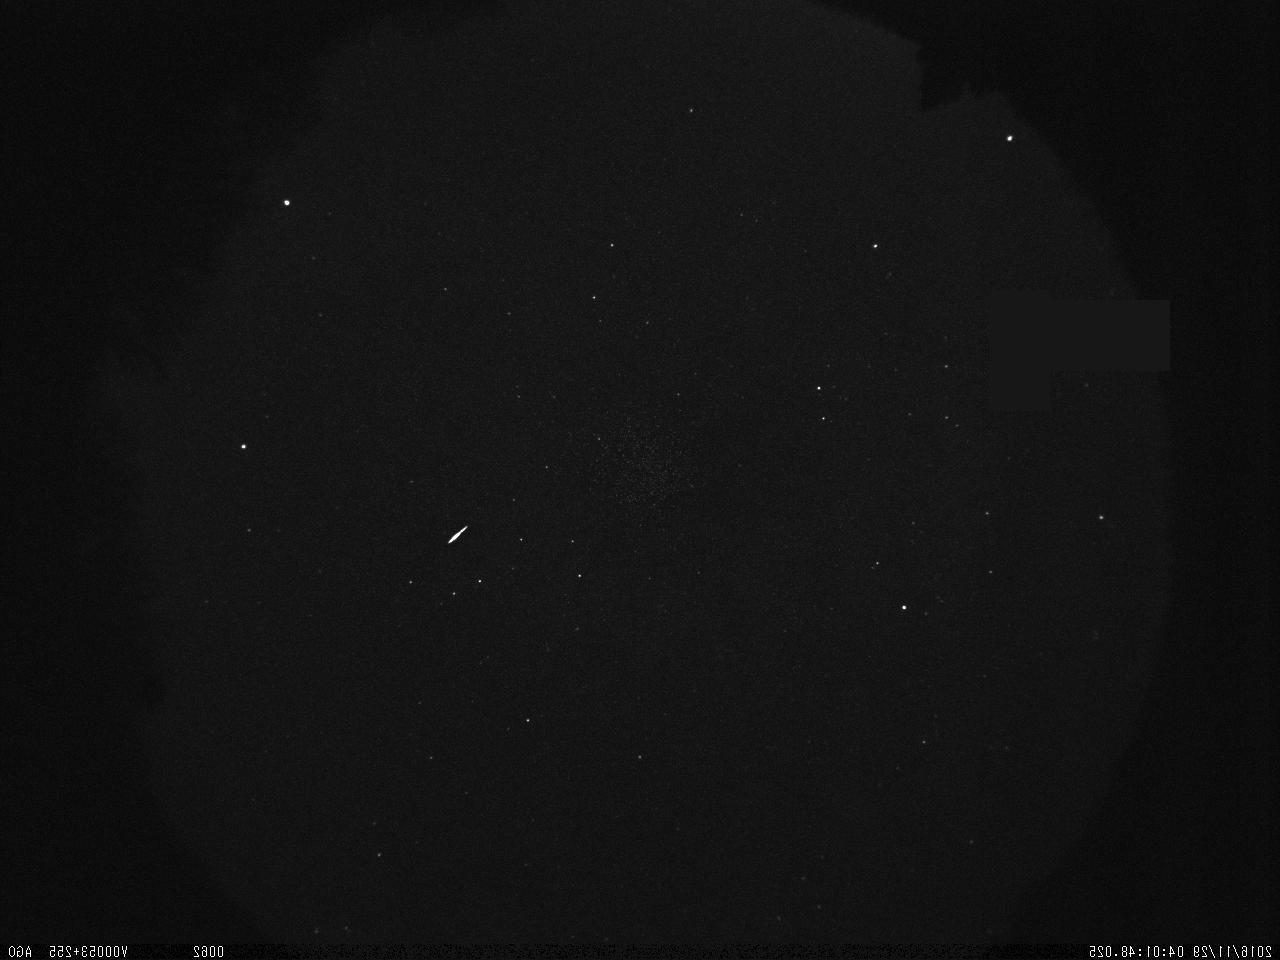meteor: (434, 520, 476, 548)
